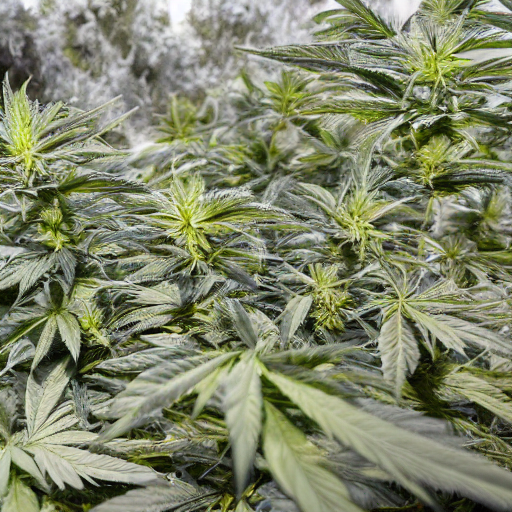Marijuana Joint: (1, 18, 512, 402)
